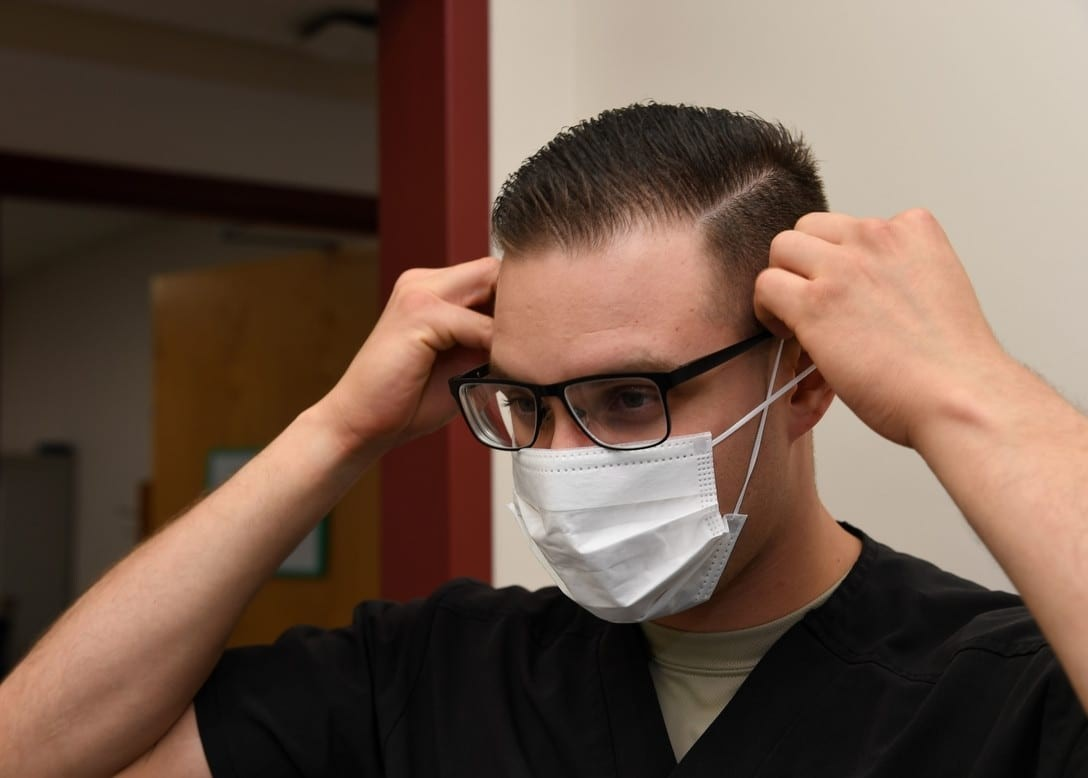face_with_mask: (476, 156, 874, 632)
